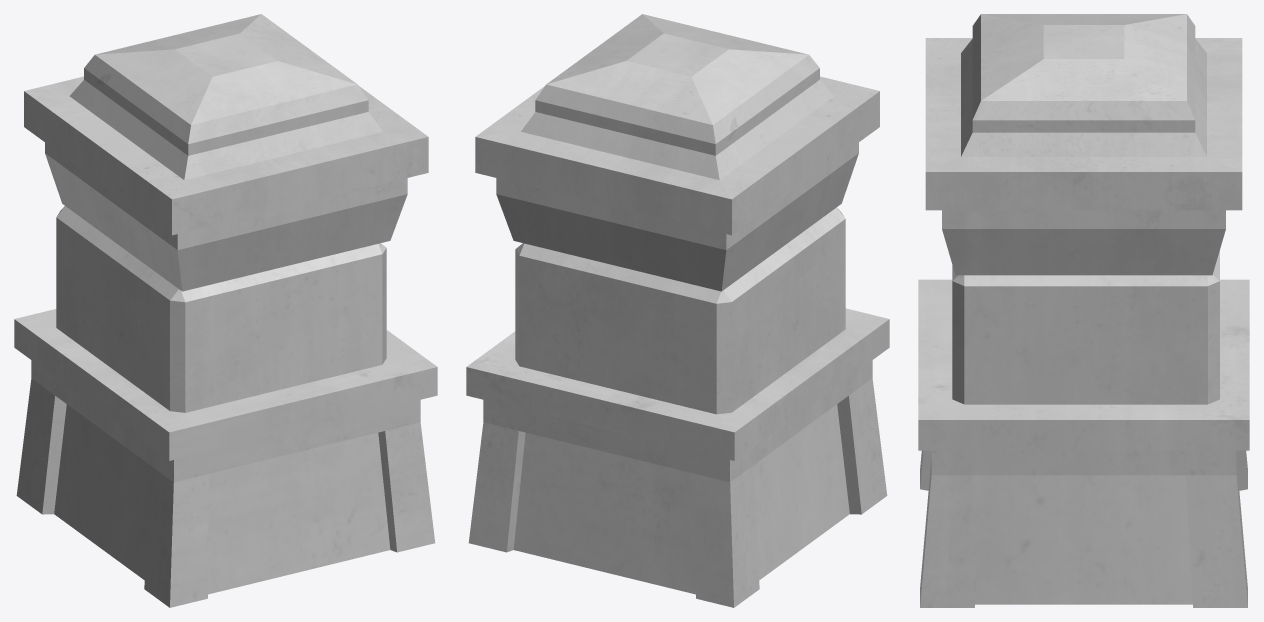
The model's file is Pillar_A.fbx.
3 renders of one model, left to right at view 1: azimuth 30°, elevation 25°; view 2: azimuth 150°, elevation 25°; view 3: azimuth 270°, elevation 25°, orthographic. The views are drawn at different scales.
Visible parts, largest first — view 1: Pillar_A; view 2: Pillar_A; view 3: Pillar_A.
Part boxes in pixels (x1,y1,x2,y2): Pillar_A: [14, 14, 437, 607]; Pillar_A: [466, 14, 889, 607]; Pillar_A: [918, 14, 1249, 607].
Size of the model in its own units: 82.64 by 137 by 82.64.
1 material, 1 textured.
